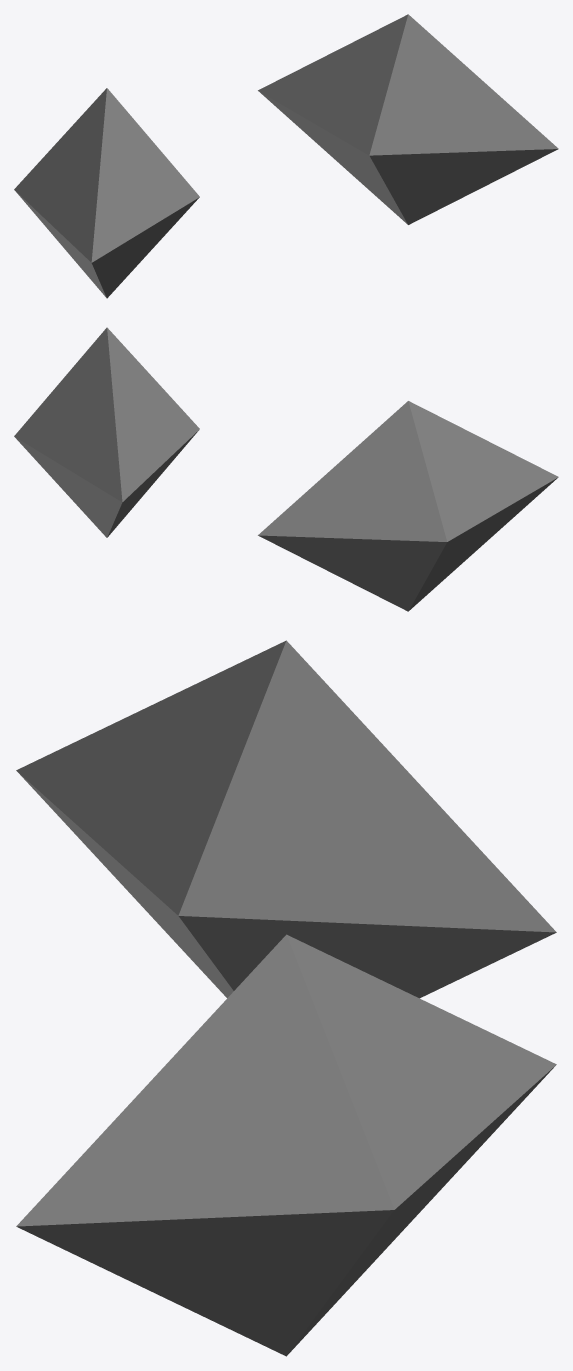
File: SM_Chr_Attach_Piercings_Male_01.fbx
The picture shows the model from 3 angles, top to bottom: view 1: azimuth 30°, elevation 25°; view 2: azimuth 150°, elevation 25°; view 3: azimuth 270°, elevation 25°; orthographic projection. The views are drawn at different scales.
Visible parts, largest first — view 1: SM_Chr_Attach_Piercings_Male_01; view 2: SM_Chr_Attach_Piercings_Male_01; view 3: SM_Chr_Attach_Piercings_Male_01.
Boxes of the visible parts, x1,y1,x2,y2 form: SM_Chr_Attach_Piercings_Male_01: [14, 14, 558, 298]; SM_Chr_Attach_Piercings_Male_01: [14, 327, 558, 611]; SM_Chr_Attach_Piercings_Male_01: [16, 640, 556, 1356].
Size of the model in its own units: 6.81 by 2.94 by 3.41.
